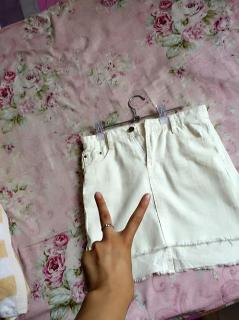skirt: (81, 105, 239, 285)
